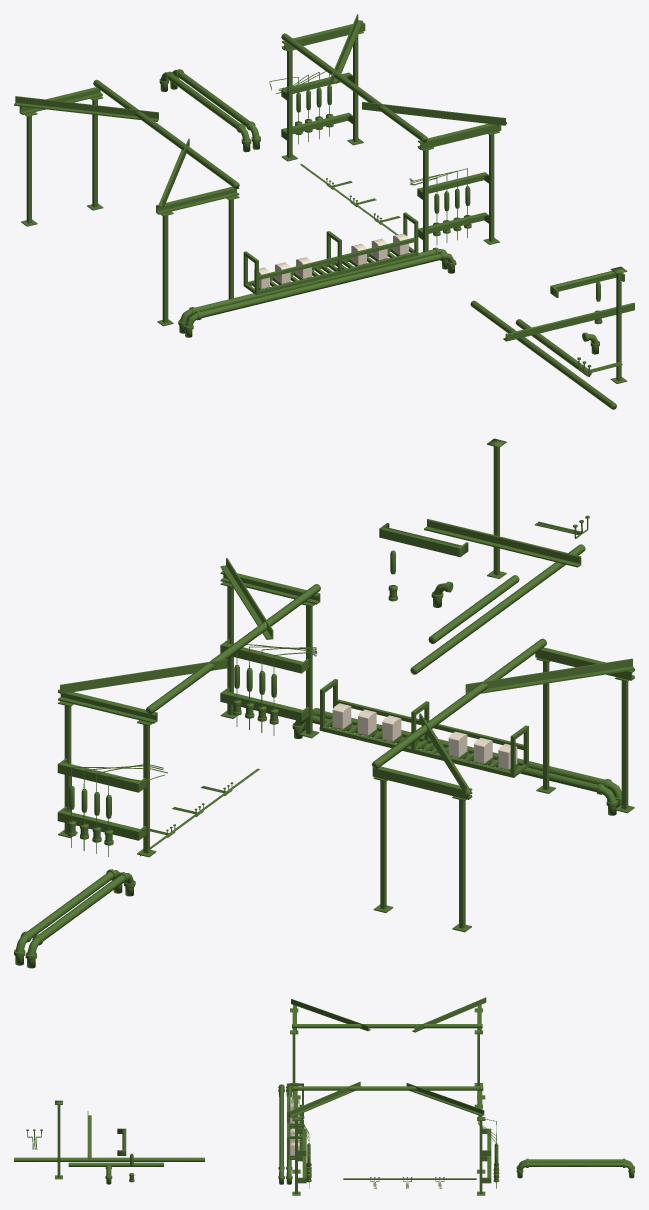
File: envis01.fbx
3 views of the same model, one above another, from view 1: azimuth 30°, elevation 25°; view 2: azimuth 150°, elevation 25°; view 3: azimuth 270°, elevation 25° (orthographic). The views are drawn at different scales.
Visible parts, largest first — view 1: Cube.057, Circle.093, Cube.095, Cube.098, Cube.100, Cube.081, Cube.087, Circle, Circle.106, Circle.173, Cube.089, Cube.102 (+14 smaller); view 2: Cube.057, Cube.095, Cube.098, Cube.102, Cube.097, Cube.081, Circle.106, Circle, Cube.087, Circle.173, Cube.084, Cube.082 (+15 smaller); view 3: Circle.173, Circle, Circle.106, Cube.084, Cube.089, Cube.057, Circle.123, Circle.136, Cube.097, Cube.100, Cube.081, Circle.093 (+3 smaller).
Boxes of the visible parts, x1=… form: Cube.057: x1=243, y1=212, x2=418, y2=295; Circle.093: x1=200, y1=253, x2=441, y2=317; Cube.095: x1=157, y1=195, x2=239, y2=326; Cube.098: x1=21, y1=96, x2=103, y2=226; Cube.100: x1=14, y1=96, x2=158, y2=121; Cube.081: x1=281, y1=31, x2=363, y2=161; Cube.087: x1=417, y1=131, x2=499, y2=251; Circle: x1=281, y1=33, x2=427, y2=142; Circle.106: x1=93, y1=79, x2=239, y2=188; Circle.173: x1=470, y1=300, x2=616, y2=409; Cube.089: x1=362, y1=102, x2=506, y2=125; Cube.102: x1=503, y1=302, x2=634, y2=341; Cube.057: x1=319, y1=679, x2=528, y2=777; Cube.095: x1=536, y1=658, x2=634, y2=813; Cube.098: x1=373, y1=777, x2=471, y2=932; Cube.102: x1=424, y1=519, x2=581, y2=567; Cube.097: x1=465, y1=658, x2=634, y2=693; Cube.081: x1=58, y1=701, x2=156, y2=857; Circle.106: x1=371, y1=638, x2=546, y2=768; Circle: x1=146, y1=584, x2=320, y2=714; Cube.087: x1=220, y1=582, x2=319, y2=738; Circle.173: x1=410, y1=544, x2=585, y2=674; Cube.084: x1=58, y1=659, x2=227, y2=693; Cube.082: x1=58, y1=691, x2=157, y2=723; Circle.173: x1=14, y1=1157, x2=204, y2=1161; Circle: x1=292, y1=1086, x2=483, y2=1090; Circle.106: x1=292, y1=1024, x2=482, y2=1028; Cube.084: x1=406, y1=1083, x2=484, y2=1116; Cube.089: x1=289, y1=1081, x2=360, y2=1117; Cube.057: x1=287, y1=1083, x2=303, y2=1160; Circle.123: x1=528, y1=1162, x2=622, y2=1166; Circle.136: x1=68, y1=1162, x2=163, y2=1166; Cube.097: x1=291, y1=999, x2=370, y2=1031; Cube.100: x1=412, y1=997, x2=486, y2=1032; Cube.081: x1=477, y1=1095, x2=485, y2=1195; Circle.093: x1=279, y1=1086, x2=283, y2=1165.
Bounding box in the file's own units: 10146 × 3726 × 22866.
